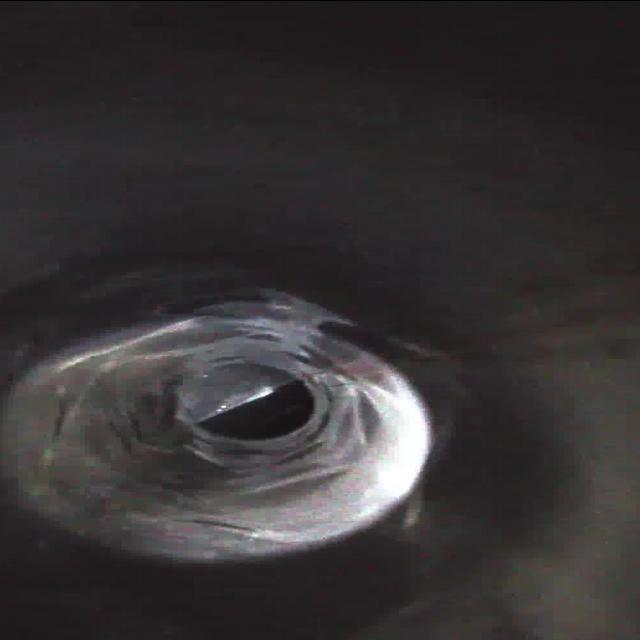crack: (87, 312, 276, 362), (308, 318, 431, 384), (219, 442, 366, 494), (20, 384, 92, 466), (158, 509, 288, 547)
